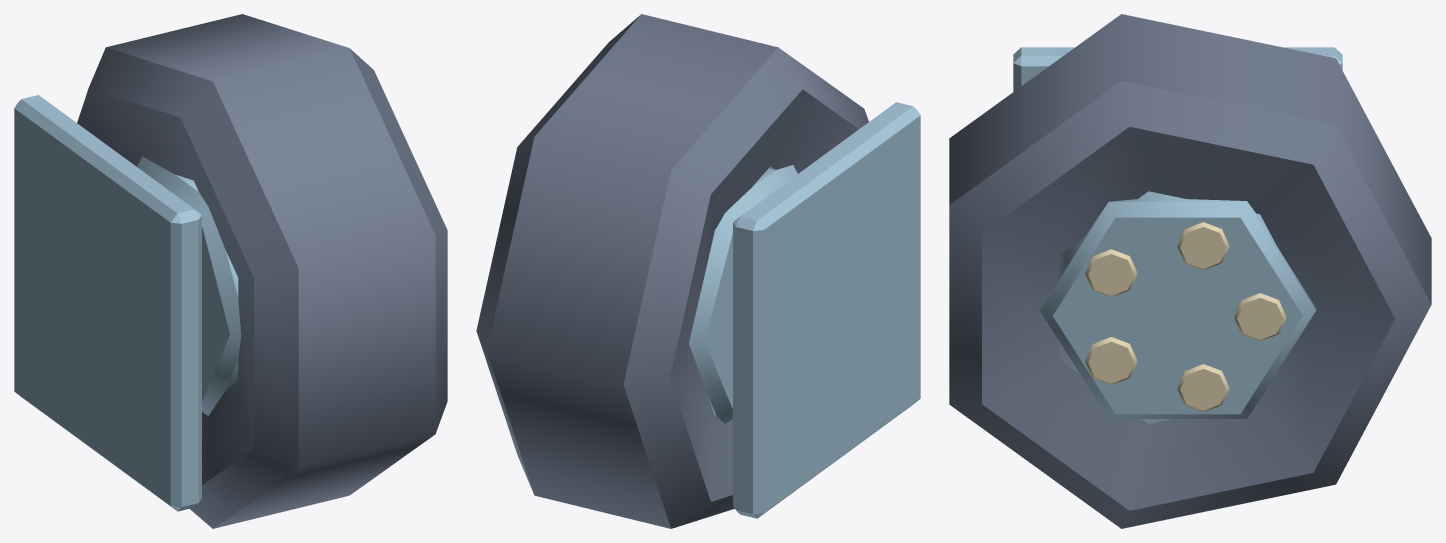
Rendered from R4M_WheelM_Side_Offroad_LOD1.glb.
3 renders of one model, left to right at view 1: azimuth 30°, elevation 25°; view 2: azimuth 150°, elevation 25°; view 3: azimuth 270°, elevation 25°, orthographic.
Visible parts, largest first — view 1: R4M_WheelM_Side_Offroad_LOD1; view 2: R4M_WheelM_Side_Offroad_LOD1; view 3: R4M_WheelM_Side_Offroad_LOD1.
Boxes of the visible parts, left/top/right/bottom form: R4M_WheelM_Side_Offroad_LOD1: left=14, top=14, right=447, bottom=528; R4M_WheelM_Side_Offroad_LOD1: left=476, top=14, right=920, bottom=528; R4M_WheelM_Side_Offroad_LOD1: left=949, top=14, right=1431, bottom=528.
Size of the model in its own units: 0.452 by 0.7507 by 0.7319.
